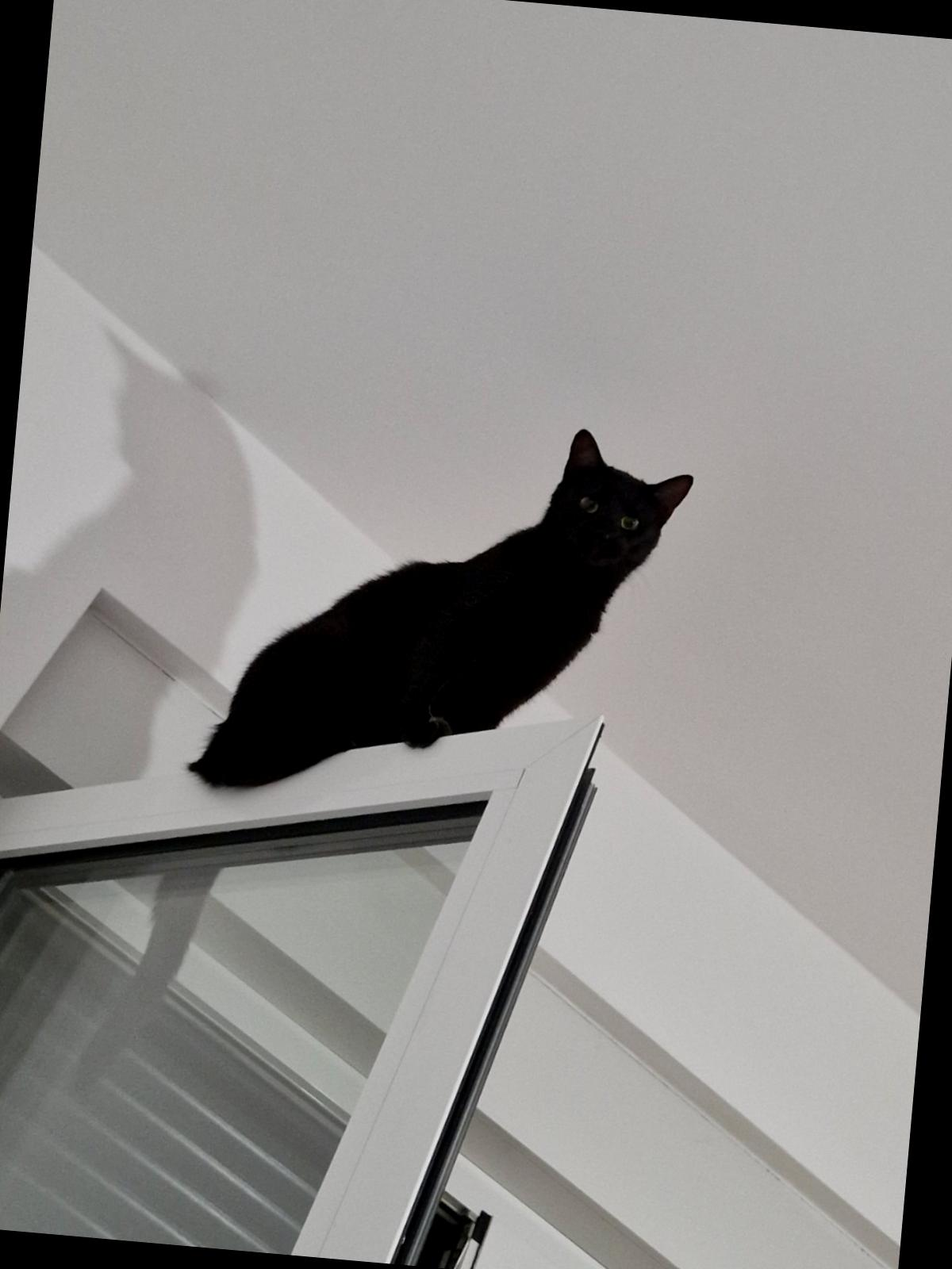macka: (190, 393, 701, 837)
